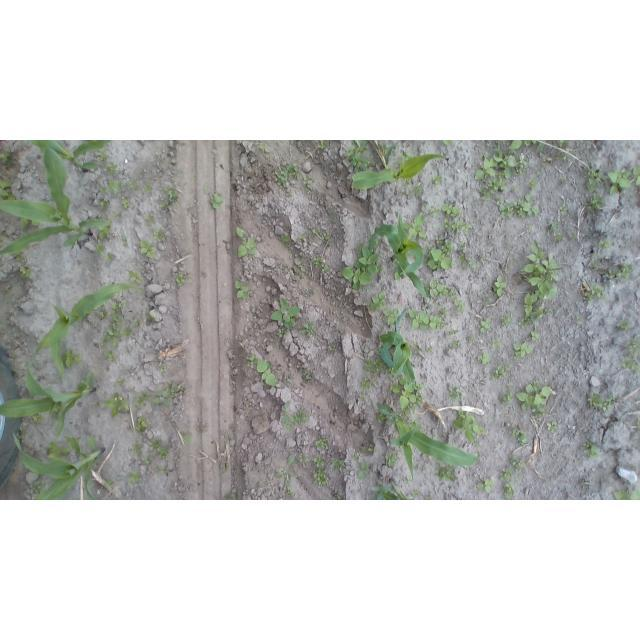Maize: (0, 141, 106, 256), (30, 283, 138, 385), (378, 404, 479, 479), (2, 365, 99, 439), (11, 432, 105, 500), (374, 213, 430, 301), (349, 141, 445, 189), (378, 306, 415, 385), (33, 140, 112, 172), (376, 477, 407, 500), (443, 140, 454, 146)
Weeds: (524, 238, 563, 318), (342, 245, 380, 291), (516, 381, 556, 420), (475, 150, 519, 180), (105, 301, 132, 347), (497, 193, 539, 219), (454, 409, 487, 442), (269, 296, 301, 329), (389, 374, 417, 411), (276, 454, 296, 498), (345, 140, 370, 172), (272, 162, 300, 190), (280, 400, 308, 428), (590, 392, 623, 414), (409, 309, 440, 331), (104, 394, 130, 420), (402, 213, 428, 239), (236, 226, 256, 258), (607, 169, 629, 197), (204, 185, 226, 212), (256, 359, 277, 386), (481, 177, 504, 200), (427, 248, 451, 270), (457, 243, 477, 269), (161, 186, 180, 211), (587, 168, 606, 193), (432, 463, 456, 482), (45, 440, 72, 456), (63, 349, 83, 370), (512, 342, 534, 361), (428, 279, 449, 298), (612, 488, 640, 501), (147, 438, 168, 455), (139, 239, 155, 261), (510, 453, 526, 475), (442, 203, 465, 218), (444, 218, 470, 231), (586, 194, 604, 212), (153, 388, 172, 405), (0, 179, 16, 199), (369, 292, 385, 312), (586, 284, 606, 300), (235, 280, 250, 300), (511, 428, 528, 445), (100, 180, 124, 192), (312, 256, 328, 274), (364, 360, 386, 373), (493, 276, 506, 297), (1, 145, 16, 163), (622, 357, 640, 372), (475, 479, 495, 492), (627, 336, 640, 356), (382, 308, 398, 324), (494, 363, 509, 380), (583, 441, 597, 459), (478, 349, 492, 367), (509, 141, 536, 150), (448, 384, 463, 400), (313, 471, 330, 485), (311, 228, 329, 241), (418, 382, 427, 408), (619, 262, 634, 277), (172, 381, 186, 397), (28, 480, 45, 493), (135, 390, 146, 410), (518, 316, 536, 328), (359, 460, 370, 478), (361, 378, 375, 392), (136, 417, 149, 432), (128, 269, 141, 284), (504, 485, 517, 500), (501, 389, 514, 404), (97, 226, 111, 239), (103, 350, 118, 362), (18, 219, 38, 228), (294, 260, 306, 275), (441, 238, 453, 253), (385, 453, 398, 466), (153, 229, 167, 241), (499, 468, 513, 480), (302, 323, 315, 335), (388, 367, 400, 380), (617, 316, 630, 328), (601, 236, 614, 248), (482, 319, 493, 333), (332, 459, 347, 469), (455, 299, 465, 314), (19, 266, 31, 278), (128, 472, 141, 483), (106, 163, 119, 174), (98, 152, 111, 163), (315, 456, 326, 469), (433, 175, 447, 185), (633, 166, 640, 186), (304, 180, 313, 195), (183, 432, 194, 444), (298, 453, 309, 465), (547, 421, 558, 433), (133, 440, 143, 453), (537, 141, 547, 154), (141, 454, 153, 464), (303, 371, 315, 381), (531, 328, 541, 340), (519, 155, 526, 171), (280, 235, 291, 245), (376, 413, 386, 424), (176, 271, 185, 283), (147, 313, 157, 323), (100, 199, 110, 209), (483, 291, 493, 301), (155, 465, 166, 474), (327, 344, 338, 353), (606, 271, 615, 282), (430, 208, 441, 217), (413, 184, 422, 195), (317, 439, 329, 447), (248, 355, 255, 368), (32, 415, 45, 422), (114, 210, 124, 219), (144, 181, 153, 191), (493, 338, 502, 348), (118, 378, 129, 386), (147, 214, 158, 222), (129, 178, 137, 189), (441, 321, 449, 332), (401, 150, 412, 158), (134, 318, 143, 327), (503, 316, 512, 325), (551, 220, 560, 229), (560, 204, 568, 214), (560, 177, 568, 187), (158, 363, 167, 371), (105, 253, 113, 262), (278, 328, 287, 336), (399, 412, 408, 420), (453, 340, 461, 349), (446, 329, 458, 335), (528, 180, 537, 188), (122, 198, 129, 208), (425, 346, 435, 353), (414, 342, 421, 352), (369, 443, 376, 453), (411, 489, 421, 496), (443, 140, 454, 146), (559, 140, 570, 146), (96, 245, 104, 253), (439, 308, 447, 316), (449, 290, 457, 298), (318, 141, 327, 148), (259, 142, 266, 151), (395, 272, 402, 281), (557, 234, 564, 243), (299, 234, 309, 240), (410, 420, 421, 425), (226, 492, 235, 498), (354, 455, 361, 462), (435, 237, 441, 244), (16, 256, 24, 261), (290, 269, 295, 277), (17, 433, 23, 439), (108, 480, 115, 485), (577, 315, 582, 322), (507, 383, 514, 388), (0, 234, 4, 242), (359, 392, 366, 396), (404, 476, 409, 480), (516, 476, 520, 480), (280, 264, 283, 269)
